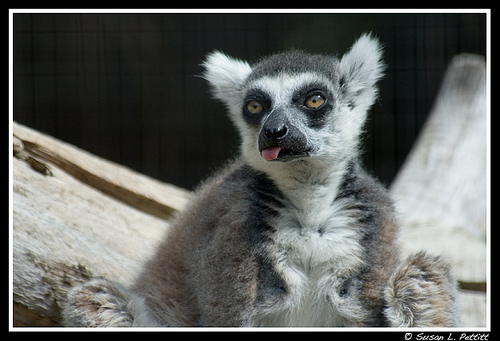cat: (6, 4, 485, 326)
